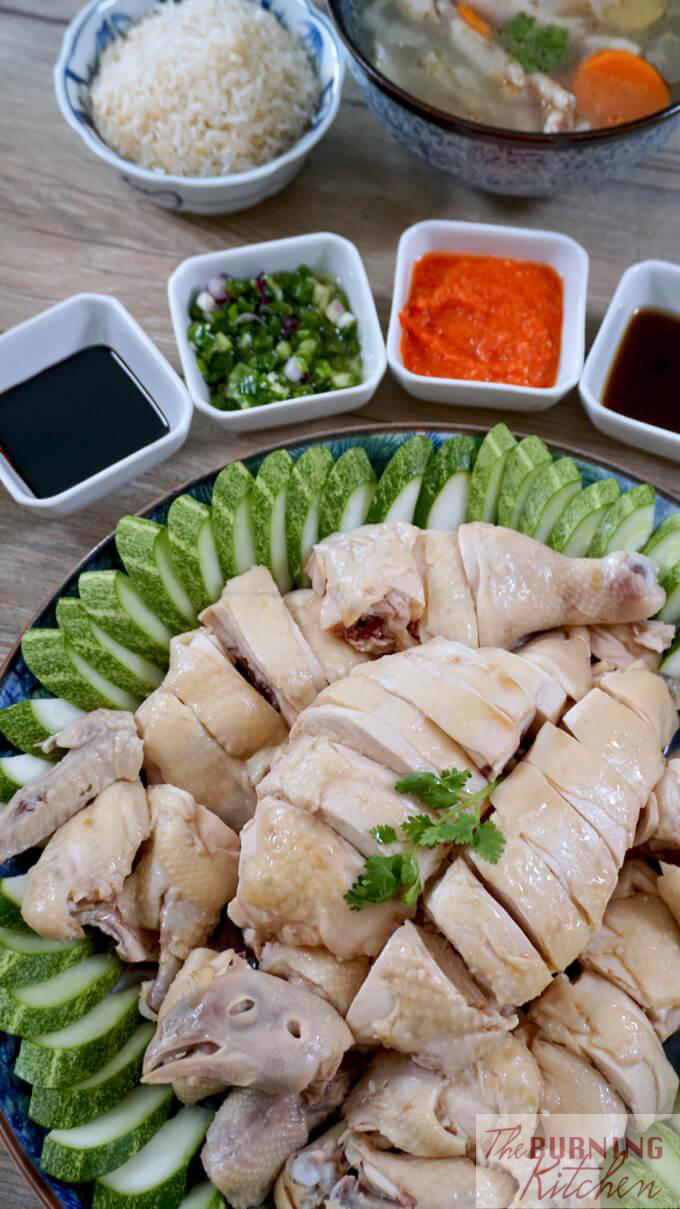Steamed Chicken Rice: (121, 474, 679, 1193)
